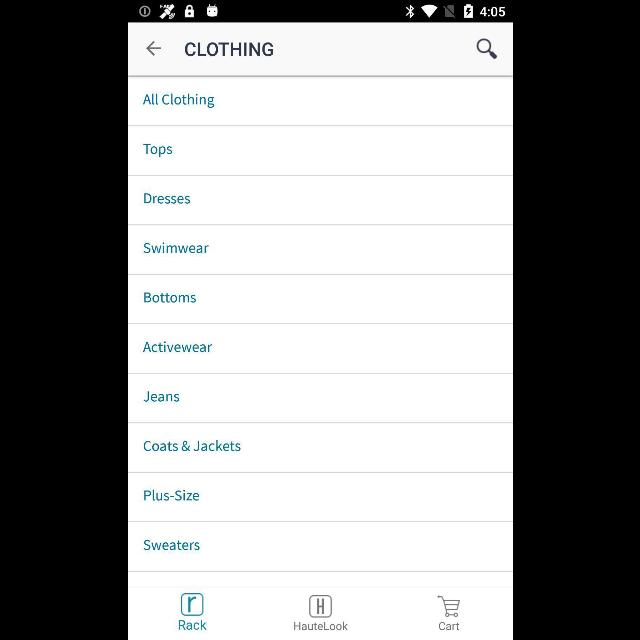icon: (436, 595, 459, 617), (475, 39, 497, 60), (146, 42, 160, 56)
image: (180, 594, 203, 616), (309, 595, 331, 617)
text: (184, 42, 272, 56), (144, 440, 240, 452), (142, 94, 214, 108), (143, 242, 209, 254), (142, 342, 212, 352), (143, 292, 195, 304), (143, 540, 199, 550), (144, 490, 198, 500), (143, 193, 189, 204), (293, 622, 347, 630), (142, 144, 172, 158), (143, 392, 179, 402), (178, 620, 206, 630), (438, 622, 459, 630)
toolbar: (128, 23, 512, 76)
uppertaskbar: (128, 1, 512, 23)
